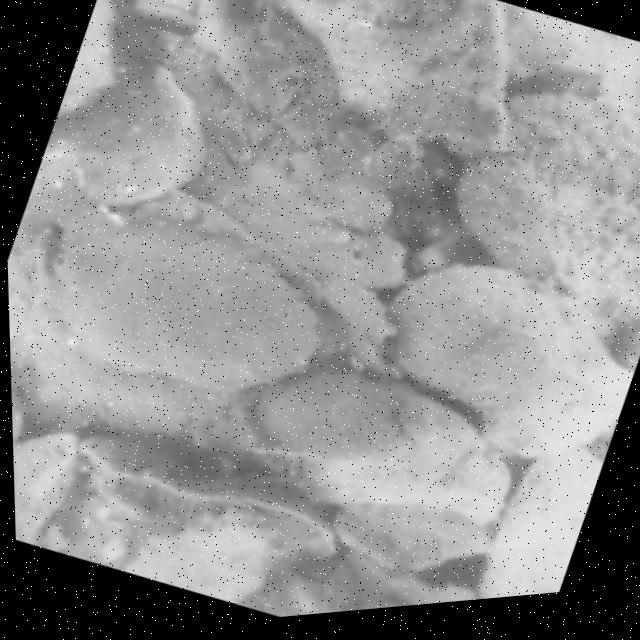Oyster-Indeterminate: (453, 98, 640, 370), (379, 258, 632, 457), (49, 237, 323, 394), (289, 403, 519, 529), (258, 371, 432, 470), (53, 0, 120, 129)
